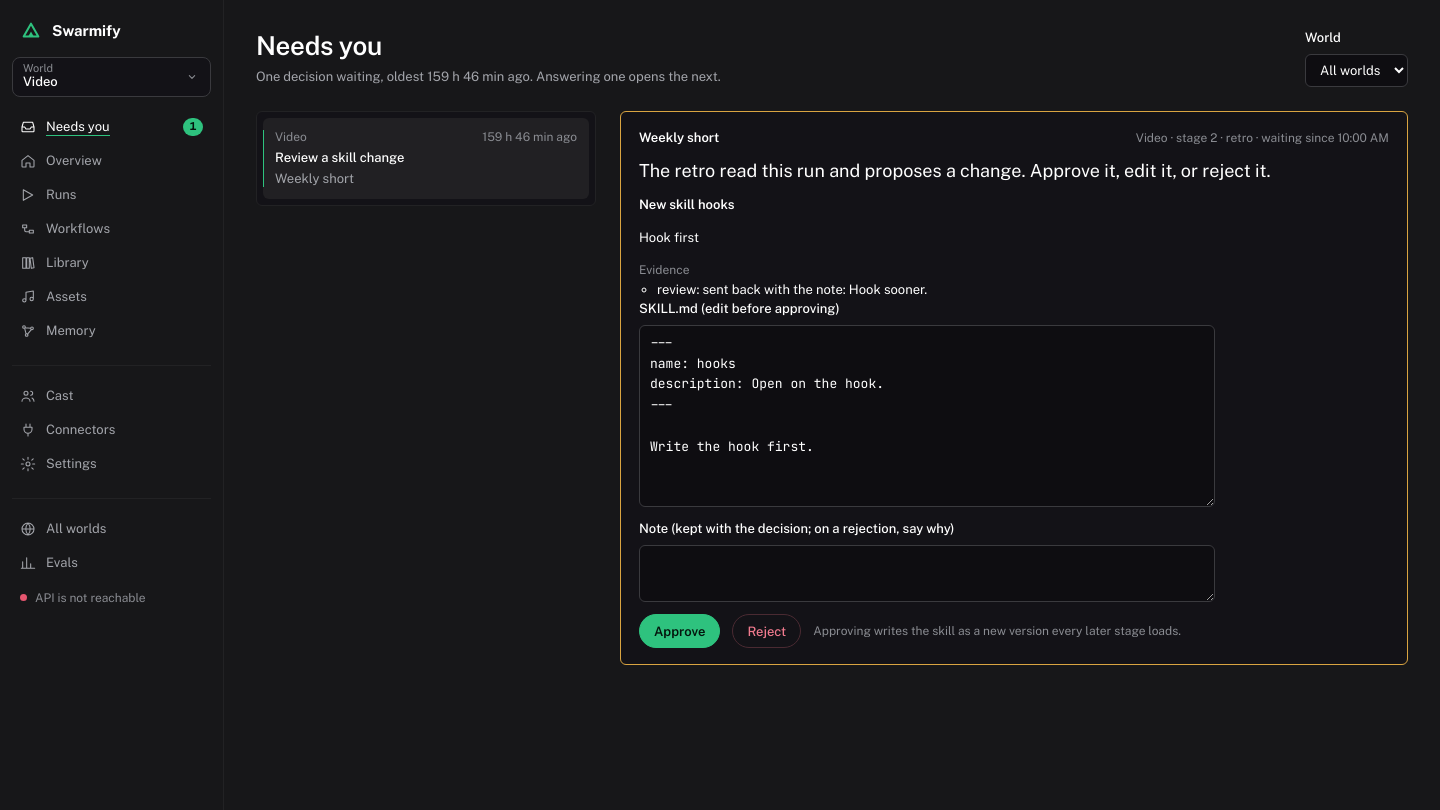
Test case: rejecting a skill proposal asks for the reason and records it
The image size is (1440, 810).
Expected: the element with test id "skill-change" is shown, [639,197,1215,507]
Click the button "Reject": (767, 631) [732,614,801,648]
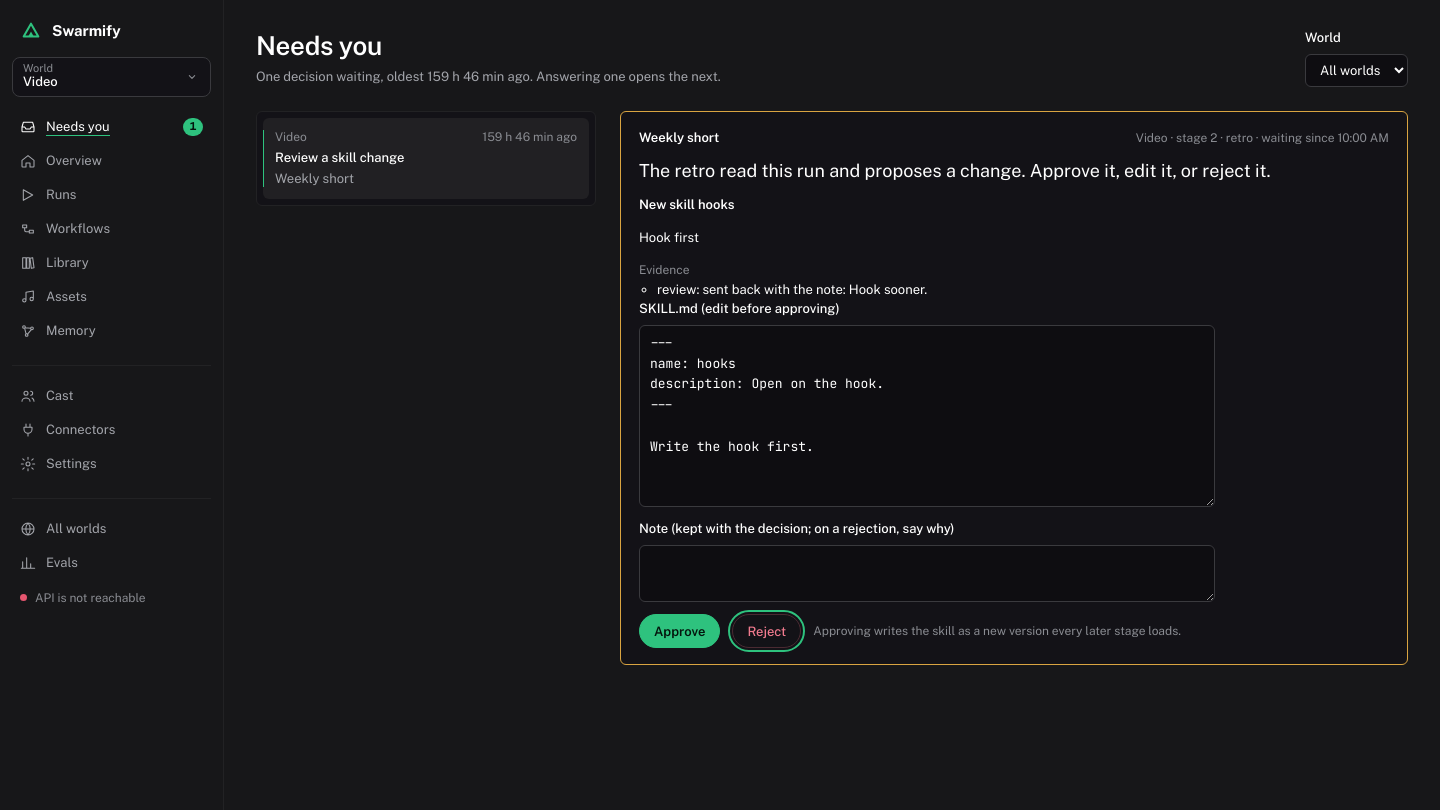
In the text box labelled "Note (kept with the decision; on a rejection, say why)": (927, 574) [639,545,1215,602], type "Not the gap."
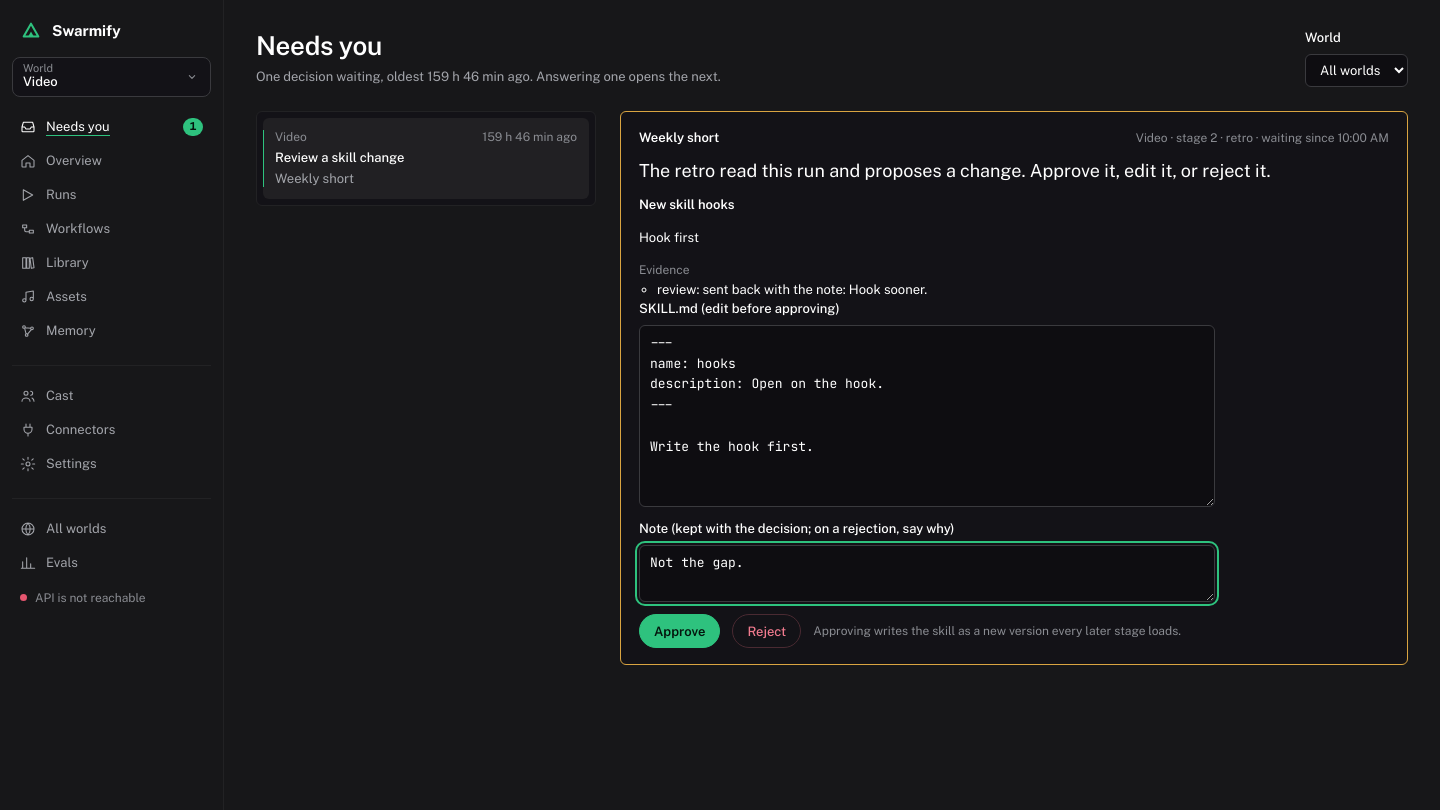
Click the button "Reject": (767, 631) [732,614,801,648]
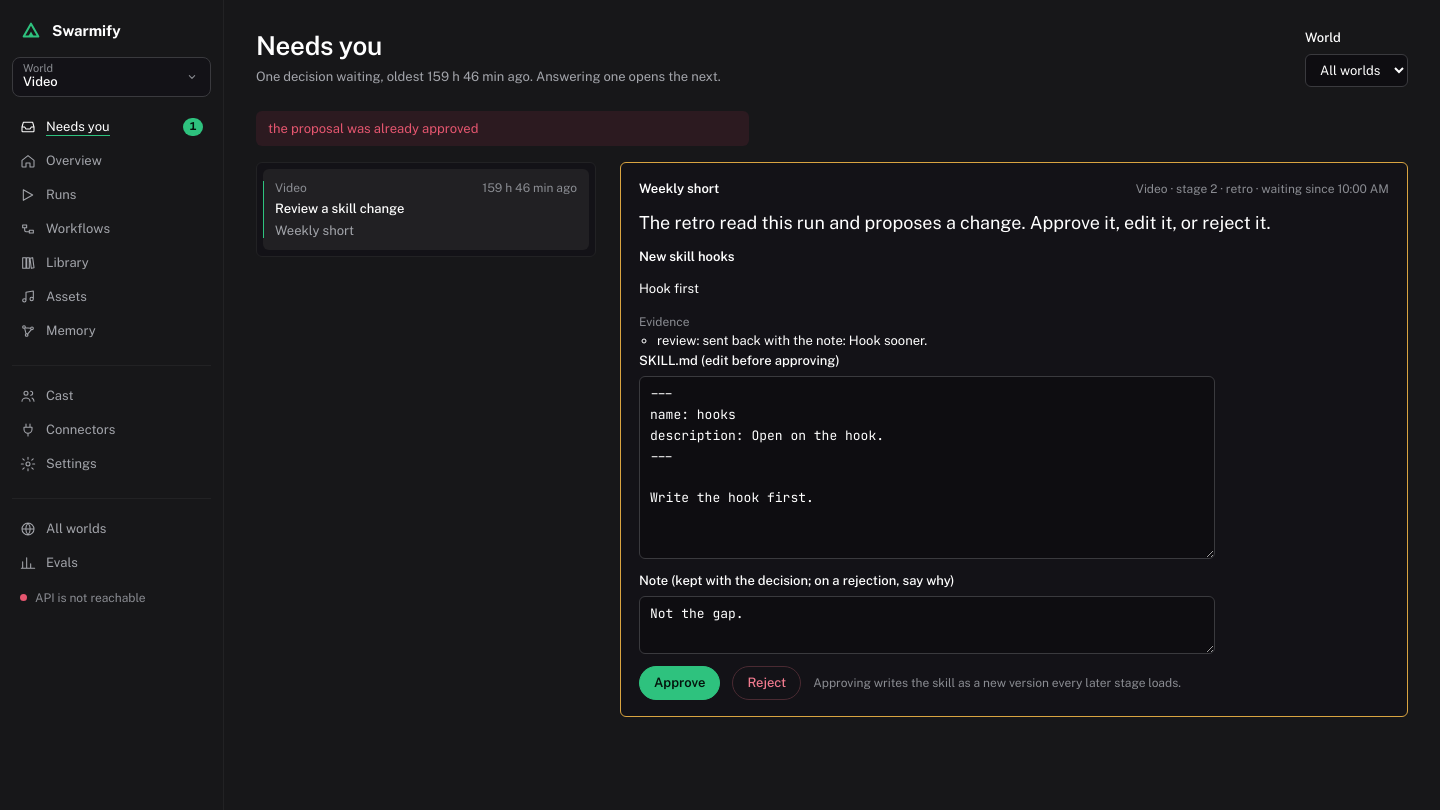
Expected: the message reads "the proposal was already approved", [268,120,478,136]
